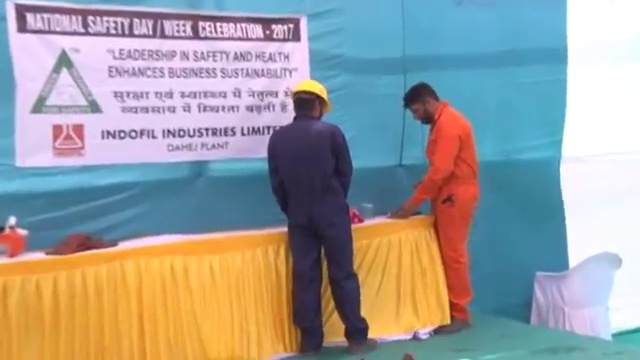helmet: (288, 78, 330, 113)
helmet_off: (403, 81, 441, 126)
helmet_on: (286, 77, 331, 122)
person: (267, 77, 380, 354), (393, 81, 481, 335)
